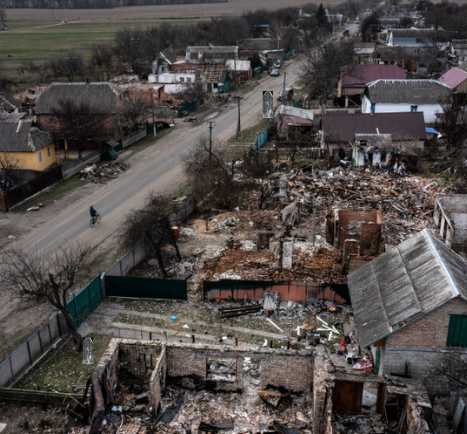HVT1: (263, 91, 273, 118), (83, 337, 93, 363)
